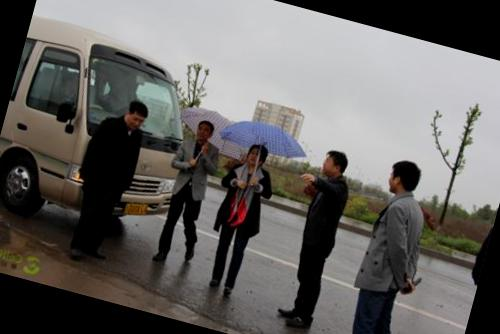no_helmet: (382, 154, 425, 202), (314, 143, 354, 185), (118, 97, 152, 132), (242, 139, 272, 176), (192, 118, 219, 146)
